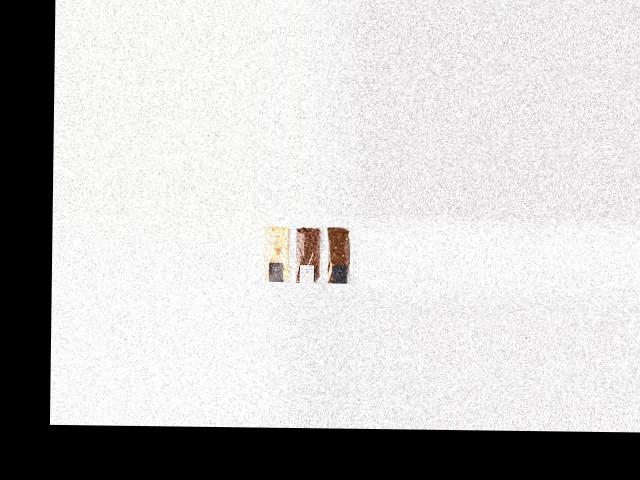chocolate: (328, 224, 355, 283)
